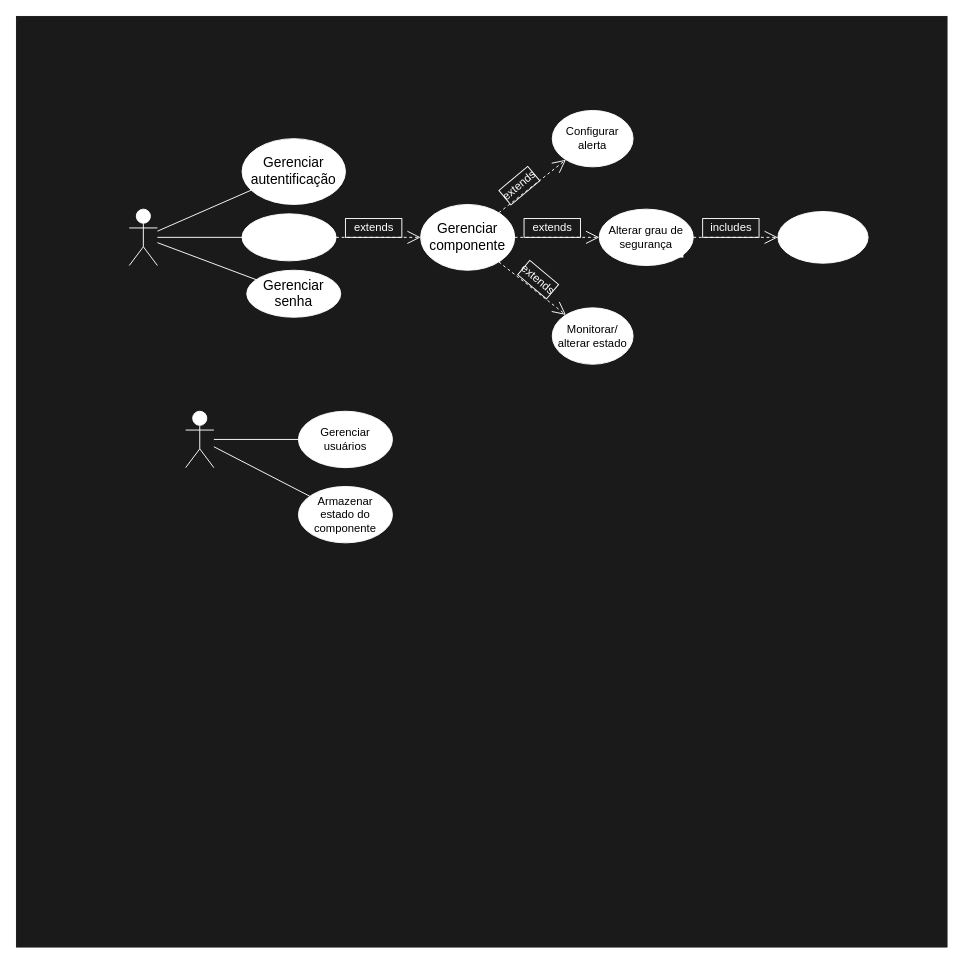
The diagram is 964 pixels wide and 964 high, and some of its shapes have lost their labels. Each missing label, with the centre of its shape:
"Autenticar usuário" goes at (x=822, y=237).
"Gerenciar residência" goes at (x=288, y=237).
"Sistema" goes at (x=199, y=439).
"Usuário" goes at (x=142, y=237).
